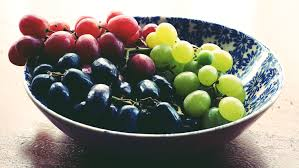Green grapes: (163, 30, 250, 127)
Red Grapes: (11, 12, 146, 67)
